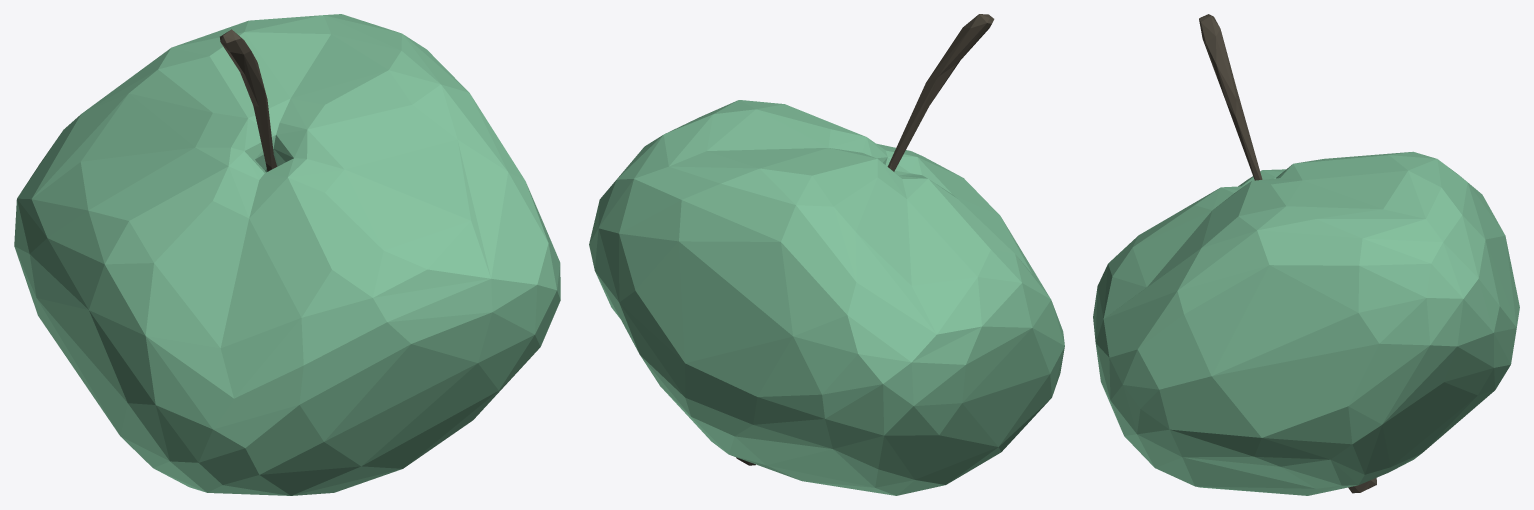
The model's file is talking tree fruit.glb.
The picture shows the model from 3 angles, left to right: view 1: azimuth 30°, elevation 25°; view 2: azimuth 150°, elevation 25°; view 3: azimuth 270°, elevation 25°; orthographic projection. The views are drawn at different scales.
Parts seen in each view (by area): view 1: Cube; view 2: Cube; view 3: Cube.
Boxes of the visible parts, x1,y1,x2,y2 form: Cube: (14,14,560,495); Cube: (589,14,1064,495); Cube: (1093,14,1519,495).
Size of the model in its own units: 0.1116 by 0.1203 by 0.1127.
